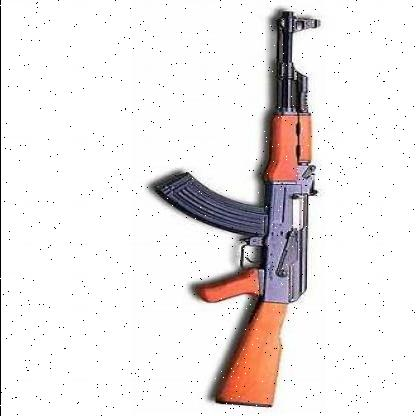rifle: (139, 6, 329, 410)
